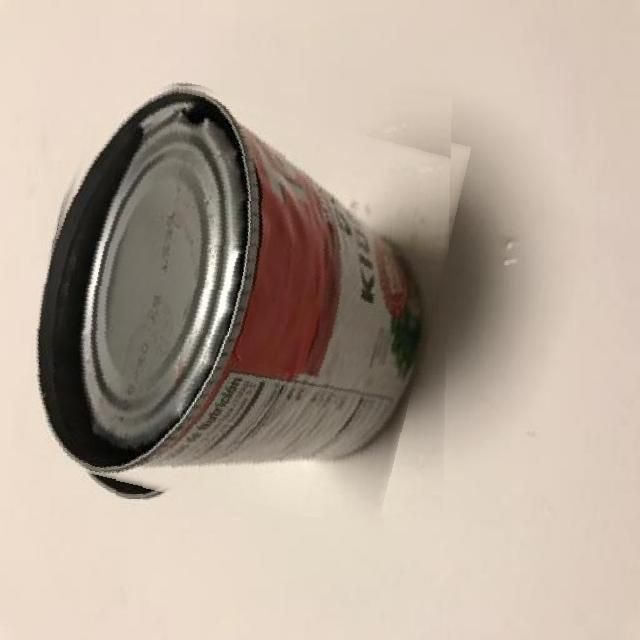recyclable: (30, 80, 452, 517)
